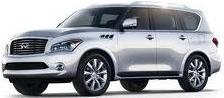front_view: (0, 34, 83, 82)
headlight: (50, 39, 82, 53)
side_glass: (117, 8, 203, 34)
